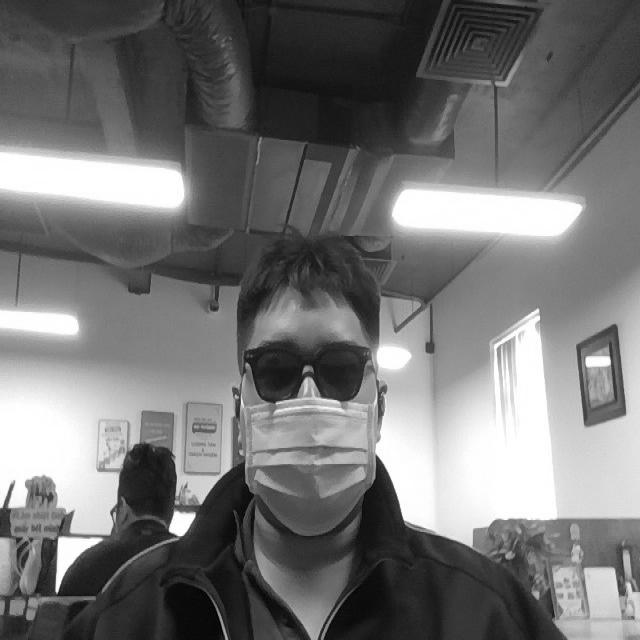fake: (235, 396, 386, 543), (232, 339, 384, 406)
